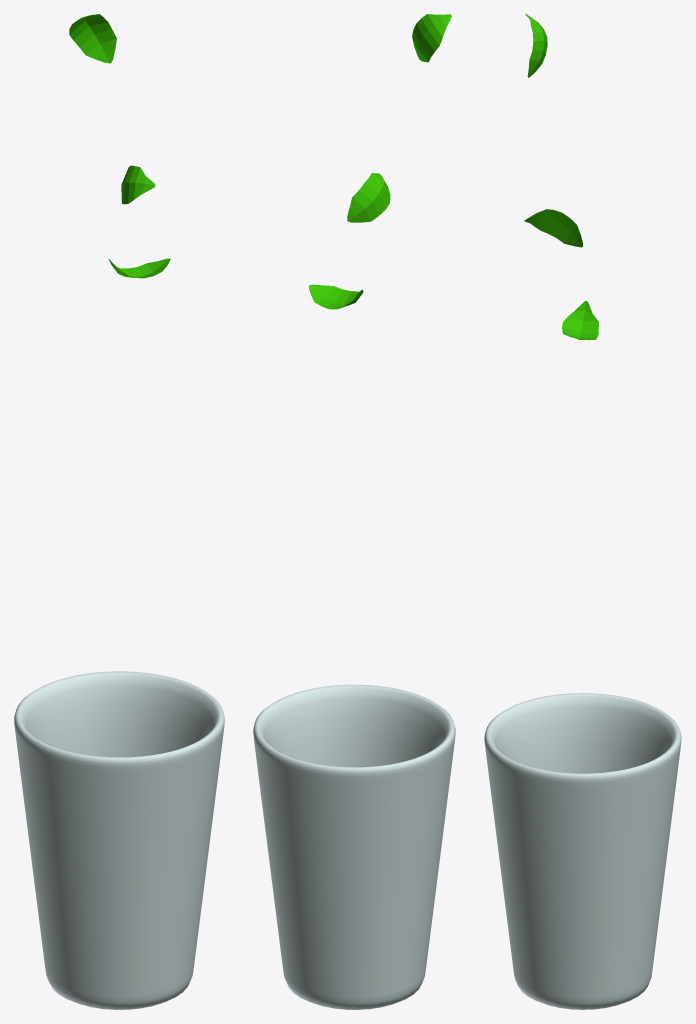
The model's file is Basil.glb.
The picture shows the model from 3 angles, left to right: view 1: azimuth 30°, elevation 25°; view 2: azimuth 150°, elevation 25°; view 3: azimuth 270°, elevation 25°; orthographic projection. The views are drawn at different scales.
Parts seen in each view (by area): view 1: Circle, Plane.003, Plane.001, Plane.002; view 2: Circle, Plane.001, Plane.003, Plane.002; view 3: Circle, Plane.001, Plane.002, Plane.003.
Part boxes in pixels (bbox=[...]): Circle: bbox=[14, 671, 224, 1009]; Plane.003: bbox=[69, 14, 116, 63]; Plane.001: bbox=[121, 165, 155, 204]; Plane.002: bbox=[108, 258, 170, 278]; Circle: bbox=[253, 684, 455, 1009]; Plane.001: bbox=[347, 173, 390, 222]; Plane.003: bbox=[412, 14, 451, 62]; Plane.002: bbox=[309, 284, 363, 309]; Circle: bbox=[484, 693, 681, 1009]; Plane.001: bbox=[524, 209, 582, 247]; Plane.002: bbox=[562, 301, 598, 340]; Plane.003: bbox=[525, 14, 547, 77].
Size of the model in its own units: 4.66 by 24.63 by 4.66.
